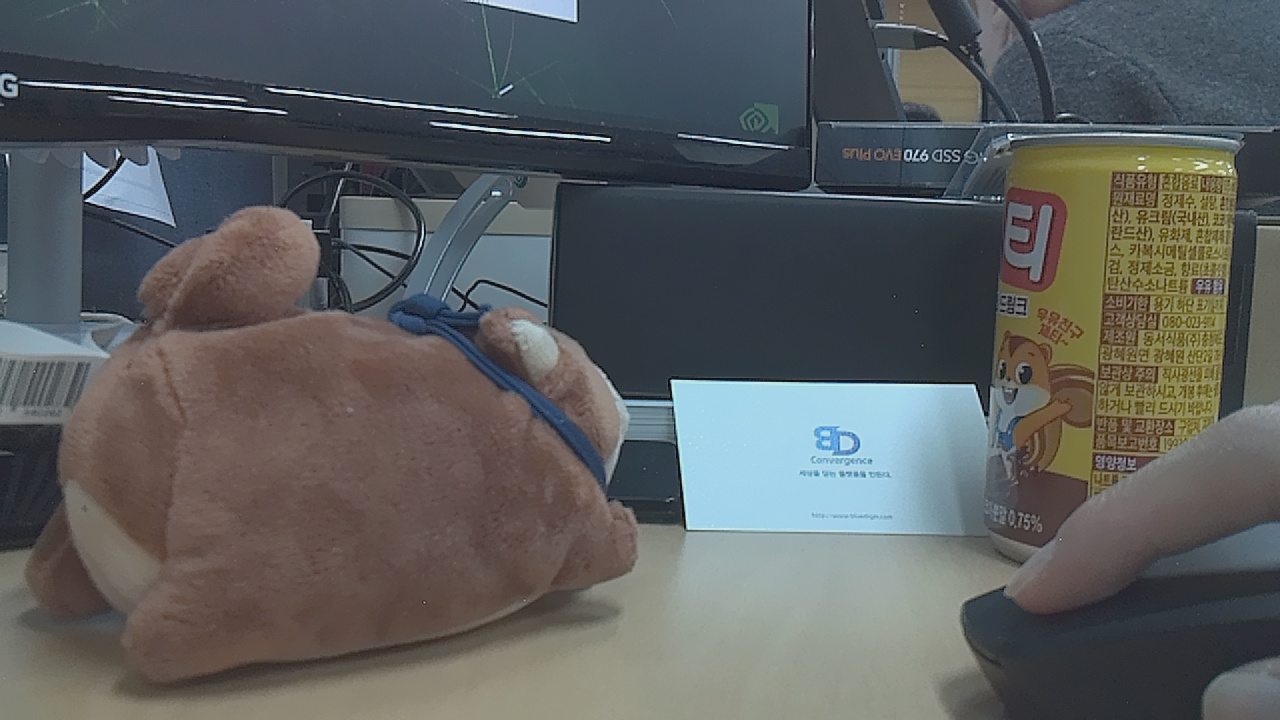BD: (801, 378, 932, 490)
cuteDog: (77, 254, 729, 674)
